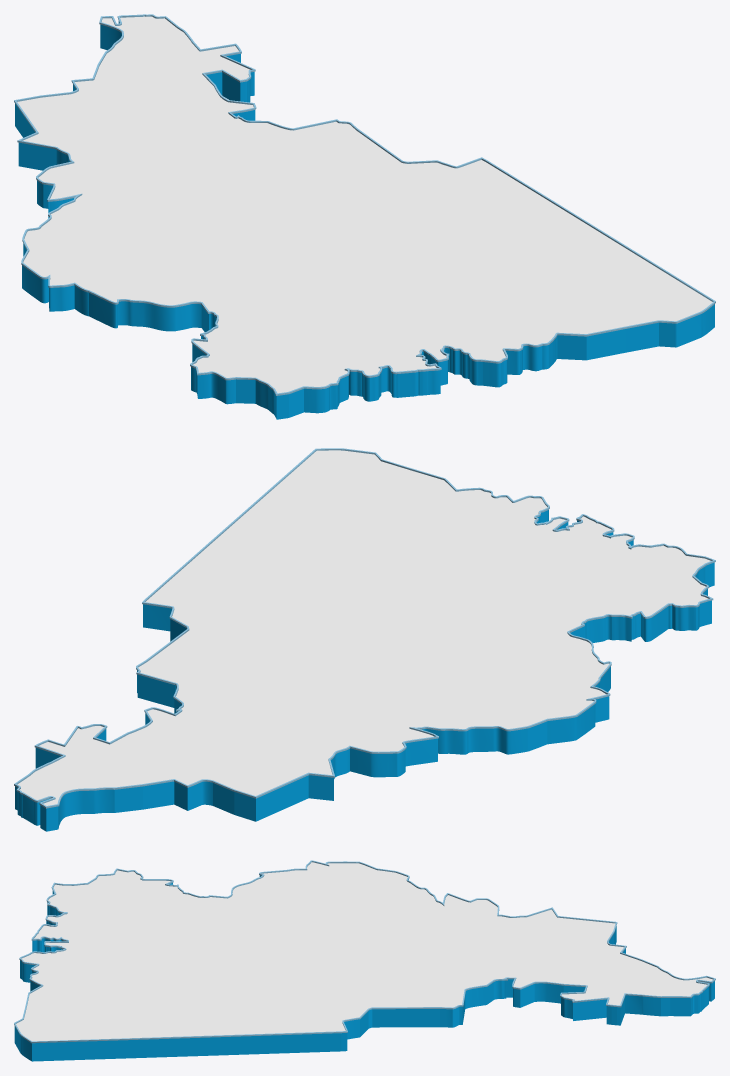
The picture shows the model from 3 angles, top to bottom: view 1: azimuth 30°, elevation 25°; view 2: azimuth 150°, elevation 25°; view 3: azimuth 270°, elevation 25°; orthographic projection. The views are drawn at different scales.
Visible parts, largest first — view 1: celling, slide, scan; view 2: celling, slide, scan; view 3: celling, slide, scan.
Part boxes in pixels (x1,y1,x2,y2): celling: (17, 16, 712, 393); slide: (15, 21, 714, 419); scan: (14, 14, 715, 395); celling: (17, 450, 710, 805); slide: (15, 510, 714, 831); scan: (14, 448, 715, 808); celling: (16, 862, 712, 1041); slide: (14, 875, 714, 1061); scan: (14, 860, 715, 1043).
Bounding box in the file's own units: 8316 × 431 × 13589.
